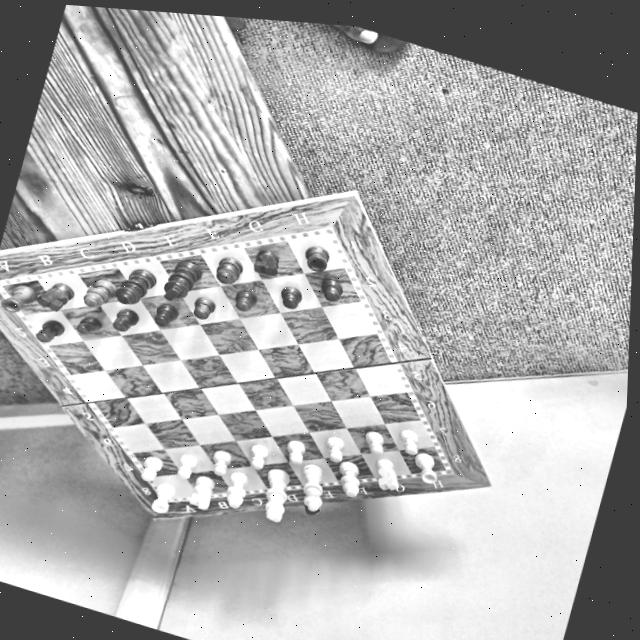black-bishop: (78, 272, 120, 314), (210, 252, 248, 290)
black-king: (158, 251, 206, 309)
black-knight: (30, 274, 79, 319), (249, 243, 281, 280)
black-pawn: (31, 314, 69, 349), (107, 304, 143, 337), (73, 311, 106, 342), (275, 283, 307, 314), (151, 299, 181, 332), (317, 274, 347, 307), (189, 294, 218, 325), (232, 287, 262, 316)
black-queen: (113, 259, 158, 313)
black-rook: (0, 277, 40, 319), (298, 239, 336, 279)
white-bishop: (330, 456, 369, 501), (222, 470, 252, 510)
white-king: (253, 465, 295, 525)
white-knight: (368, 453, 406, 495), (186, 472, 219, 514)
white-pawn: (393, 424, 426, 461), (320, 432, 351, 465), (280, 435, 310, 467), (138, 452, 167, 484), (244, 439, 271, 473), (361, 427, 389, 459), (174, 451, 198, 482), (210, 449, 234, 478)
white-queen: (291, 459, 333, 514)
white-rook: (407, 448, 445, 487), (148, 481, 177, 517)
